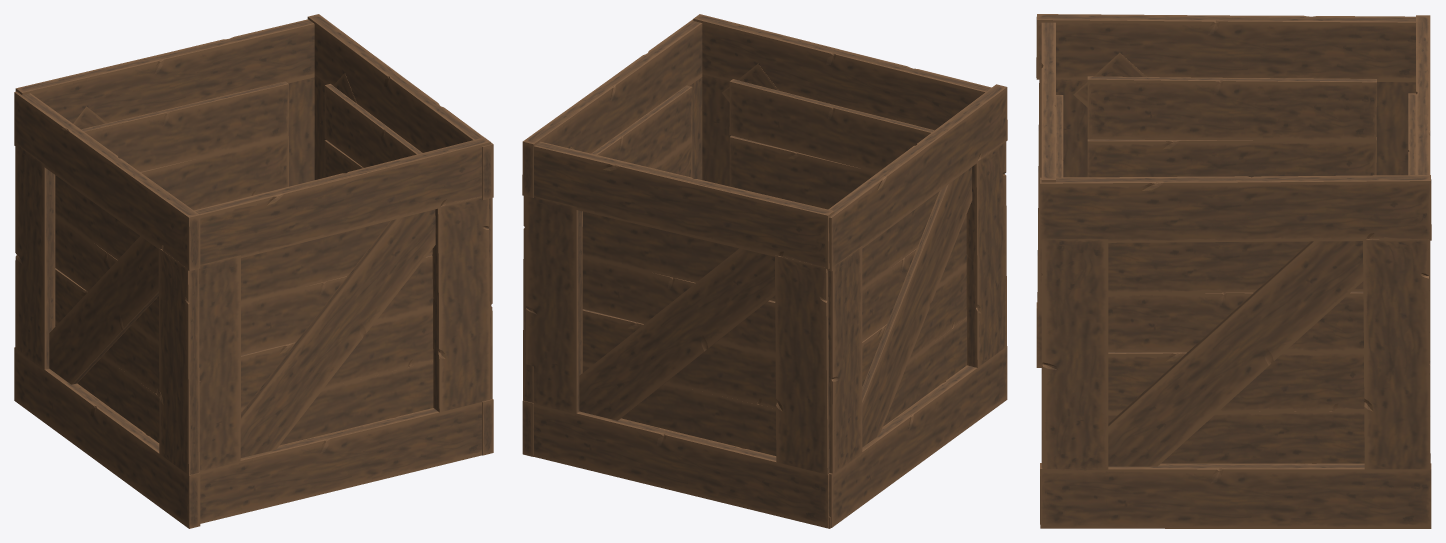
The model's file is EmptyCrate.FBX.
3 renders of one model, left to right at view 1: azimuth 30°, elevation 25°; view 2: azimuth 150°, elevation 25°; view 3: azimuth 270°, elevation 25°, orthographic. The views are drawn at different scales.
Visible parts, largest first — view 1: PLONKUnwrapped009, PLONKUnwrapped011, PLONKUnwrapped010, PLONKUnwrapped012; view 2: PLONKUnwrapped010, PLONKUnwrapped011, PLONKUnwrapped009, PLONKUnwrapped012; view 3: PLONKUnwrapped012, PLONKUnwrapped011, PLONKUnwrapped009, PLONKUnwrapped010.
Boxes of the visible parts, x1,y1,x2,y2 form: PLONKUnwrapped009: (194,137,490,523); PLONKUnwrapped011: (14,91,200,528); PLONKUnwrapped010: (15,19,314,210); PLONKUnwrapped012: (307,14,493,455); PLONKUnwrapped010: (524,141,834,528); PLONKUnwrapped011: (827,84,1007,527); PLONKUnwrapped009: (693,14,991,209); PLONKUnwrapped012: (522,19,702,456); PLONKUnwrapped012: (1040,175,1431,528); PLONKUnwrapped011: (1036,14,1415,367); PLONKUnwrapped009: (1041,22,1063,467); PLONKUnwrapped010: (1408,15,1430,415).
Size of the model in its own units: 2.92 by 2.92 by 2.85.
